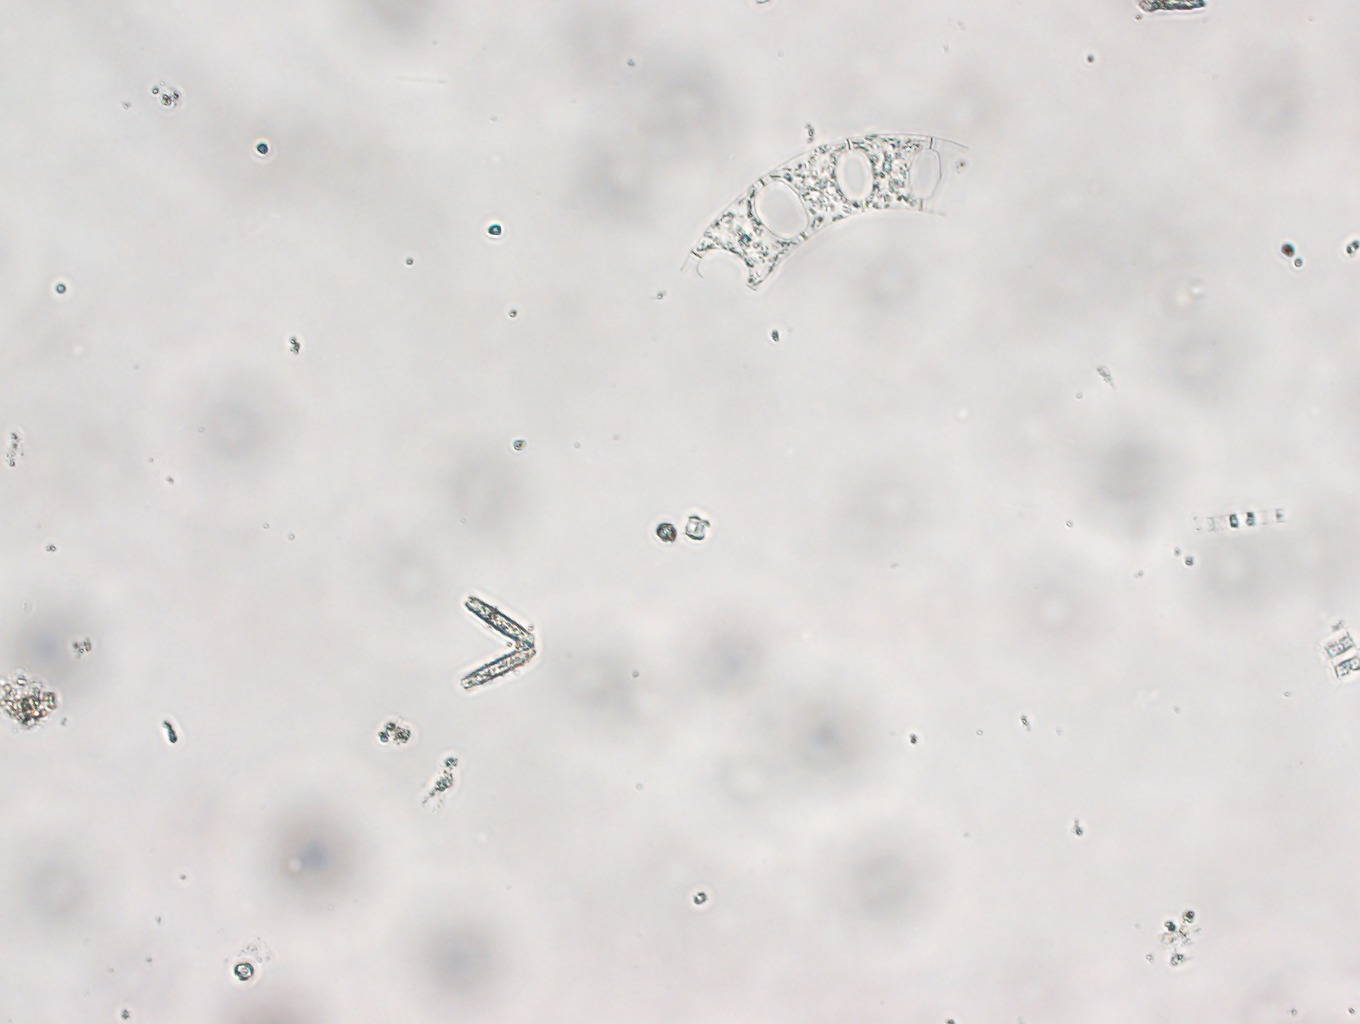eucampia: (663, 109, 973, 299)
skeletonema: (1187, 498, 1299, 544)
thalassionema nitzschioides: (450, 585, 542, 693)
